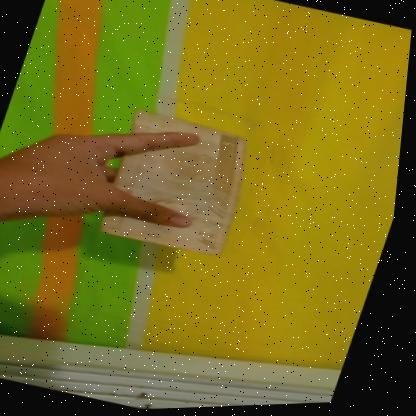five-back-vef: (96, 105, 268, 264)
